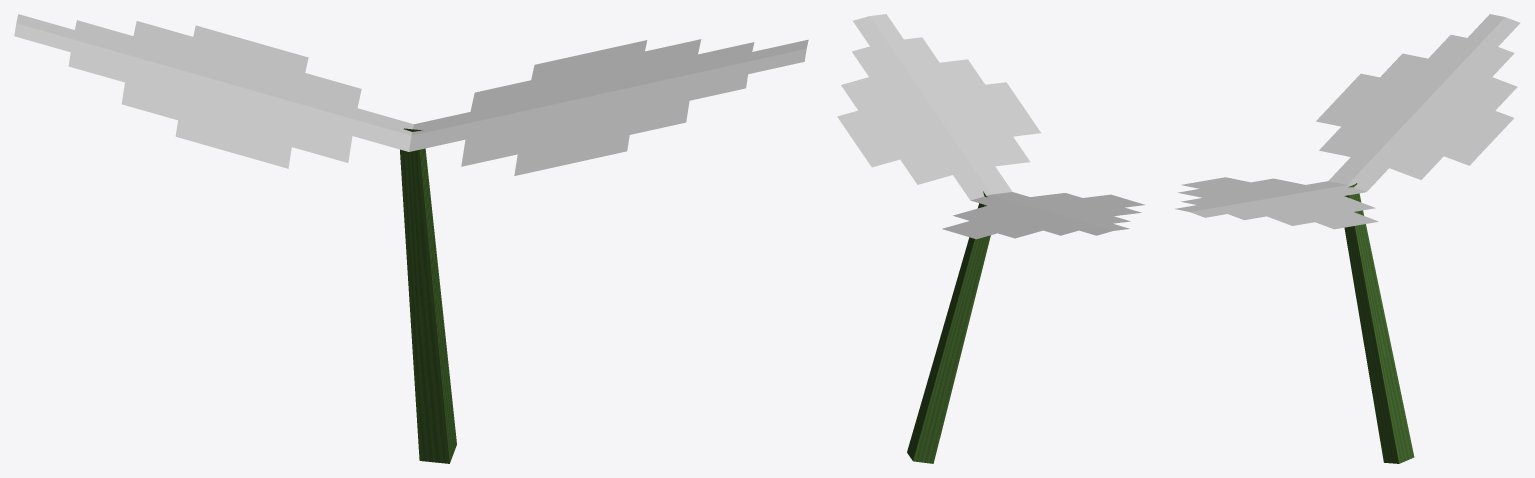
File: plant_0_2_0_lod.obj
The picture shows the model from 3 angles, left to right: view 1: azimuth 30°, elevation 25°; view 2: azimuth 150°, elevation 25°; view 3: azimuth 270°, elevation 25°; orthographic projection. The views are drawn at different scales.
Visible parts, largest first — view 1: model; view 2: model; view 3: model.
Boxes of the visible parts, <box> form: model: <box>14,14,808,463</box>; model: <box>837,14,1144,463</box>; model: <box>1175,14,1520,463</box>.
Bounding box in the file's own units: 0.1942 × 0.1449 × 0.1394.
